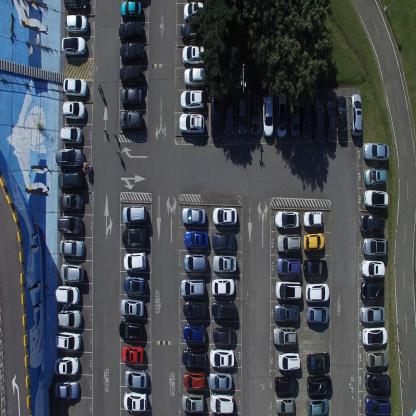car: (349, 92, 363, 138), (55, 148, 84, 169), (363, 141, 389, 164), (335, 94, 348, 140), (179, 112, 205, 135), (273, 301, 300, 323), (53, 354, 80, 376), (210, 94, 222, 142), (365, 371, 391, 393), (209, 346, 235, 368), (362, 235, 388, 257), (54, 284, 80, 306), (55, 330, 81, 352), (364, 394, 391, 415), (275, 91, 287, 138), (210, 391, 234, 414), (262, 92, 274, 138), (249, 90, 261, 136), (307, 374, 332, 396), (184, 229, 209, 251), (363, 187, 388, 209), (119, 318, 144, 340), (120, 296, 145, 318), (121, 226, 147, 247), (223, 93, 235, 138), (360, 279, 384, 301), (182, 322, 206, 344), (324, 99, 336, 143), (180, 88, 204, 110), (182, 44, 206, 66), (120, 41, 144, 63), (60, 261, 84, 283), (123, 390, 147, 412), (124, 368, 148, 390), (211, 299, 236, 320), (183, 300, 208, 321), (181, 346, 206, 367), (118, 20, 143, 41), (119, 64, 144, 85), (64, 14, 89, 35), (57, 308, 82, 329), (54, 379, 79, 400), (275, 280, 301, 300), (362, 326, 388, 346), (211, 231, 237, 251), (180, 278, 206, 298), (61, 36, 87, 56), (62, 77, 88, 97), (58, 170, 84, 190), (57, 214, 83, 234), (121, 204, 147, 224), (305, 282, 329, 303), (272, 324, 296, 345), (181, 391, 205, 412), (360, 213, 384, 234), (288, 94, 300, 136), (180, 20, 204, 41), (183, 0, 207, 21), (119, 109, 143, 130), (62, 100, 86, 121), (276, 232, 301, 252), (275, 209, 300, 229), (212, 206, 237, 226), (208, 370, 233, 390), (181, 206, 206, 226), (183, 67, 208, 87), (360, 304, 386, 323), (57, 192, 83, 211), (277, 350, 300, 371), (123, 250, 146, 271), (306, 352, 330, 372), (211, 276, 235, 296), (212, 254, 236, 274), (363, 166, 387, 186), (273, 374, 298, 393), (183, 253, 208, 272), (59, 239, 85, 257), (121, 344, 144, 364), (365, 348, 389, 367), (212, 325, 236, 344), (361, 259, 385, 278), (123, 275, 147, 294), (313, 100, 323, 144), (120, 0, 142, 20), (60, 125, 82, 145), (306, 305, 329, 324), (182, 370, 205, 389), (277, 256, 301, 274), (300, 96, 310, 139), (303, 232, 325, 251), (307, 396, 329, 415), (120, 88, 143, 106), (237, 95, 247, 136), (303, 259, 327, 276), (275, 396, 296, 415), (303, 210, 324, 228), (64, 0, 90, 12)
